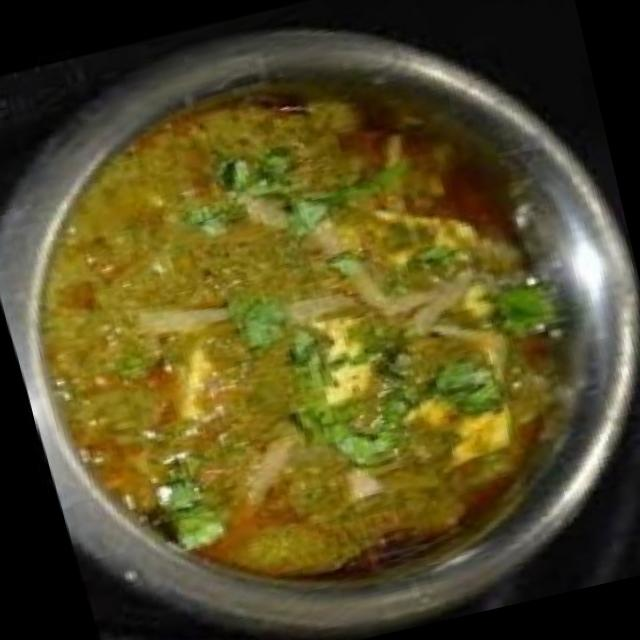palak_paneer: (0, 26, 617, 637)
